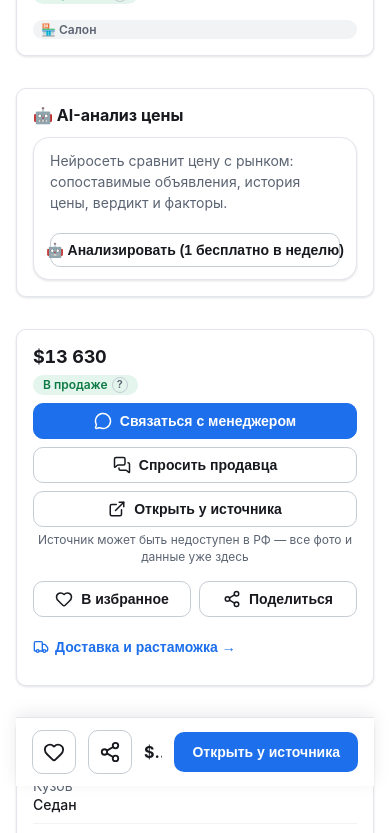
Scenario: «Связаться с менеджером» (POST /listings/{id}/contact) › 201: форма инлайн (aria-expanded) → тост, кнопка disabled «Заявка отправлена ✓», флаг в localStorage
(page scrolled)
Click the button "Связаться с менеджером": (195, 420) [33, 402, 357, 438]
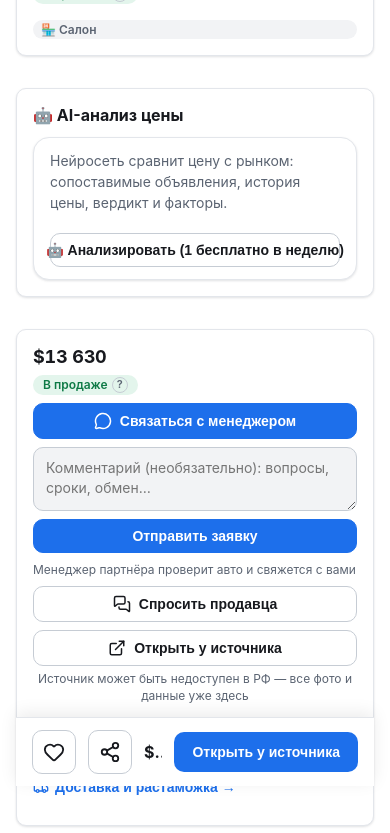
Expected: the text box named "Комментарий менеджеру (необязательно)" is shown, [33, 446, 357, 510]
Click the button "Отправить заявку": (195, 536) [33, 518, 357, 552]
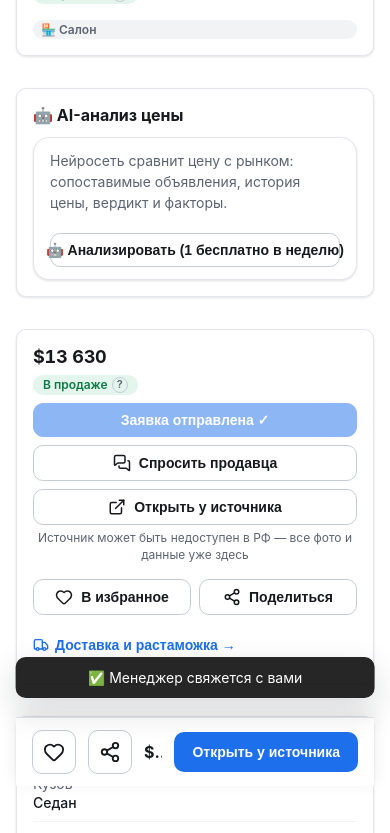
Expected: the text "✅ Менеджер свяжется с вами" is shown, [16, 657, 374, 698]
Expected: the button "Заявка отправлена ✓" is disabled, [33, 402, 357, 436]
